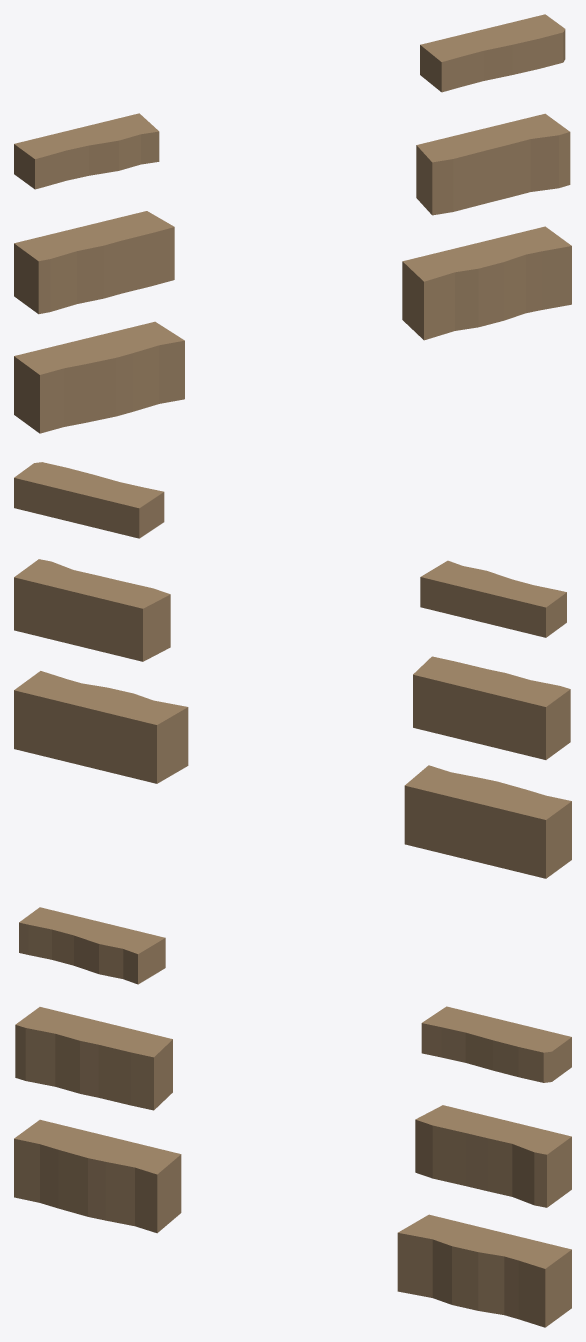
The model's file is HokageCliff_HokageRock.fbx.
3 renders of one model, top to bottom at view 1: azimuth 30°, elevation 25°; view 2: azimuth 150°, elevation 25°; view 3: azimuth 330°, elevation 25°, orthographic.
Visible parts, largest first — view 1: Cliff-1_0.001; view 2: Cliff-1_0.001; view 3: Cliff-1_0.001.
Boxes of the visible parts, x1,y1,x2,y2 form: Cliff-1_0.001: [14, 14, 571, 433]; Cliff-1_0.001: [14, 462, 571, 878]; Cliff-1_0.001: [14, 907, 571, 1327].
Bounding box in the file's own units: 15600 × 7600 × 1390.
